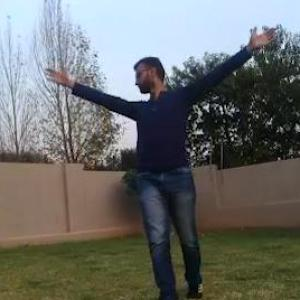takeoff: (22, 0, 246, 299)
